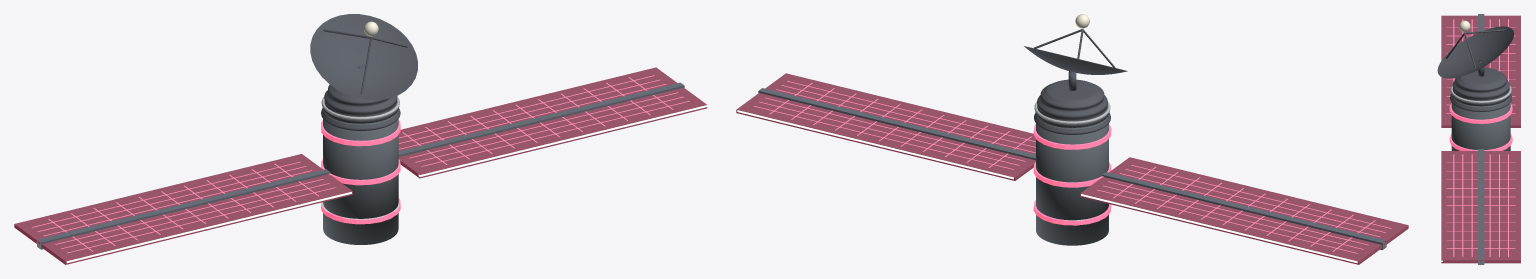
The model's file is satellite_red_off.fbx.
The picture shows the model from 3 angles, left to right: view 1: azimuth 30°, elevation 25°; view 2: azimuth 150°, elevation 25°; view 3: azimuth 270°, elevation 25°; orthographic projection. The views are drawn at different scales.
Visible parts, largest first — view 1: sat_pf_R, sat_pf_L, sat_body, sat_dish, sat_top_bellows, sat_boom_R, sat_boom_L, sat_pled_L_-0.56, sat_pled_R_-0.56, sat_ring_2, sat_ring_0.001, sat_ring_1; view 2: sat_pf_R, sat_pf_L, sat_body, sat_top_bellows, sat_boom_R, sat_boom_L, sat_dish, sat_pled_L_0.56, sat_pled_R_0.56, sat_ring_2, sat_ring_0.001, sat_ring_1; view 3: sat_pf_L, sat_pf_R, sat_body, sat_dish, sat_top_bellows, sat_boom_L, sat_ring_2, sat_dish_struts, sat_ring_1, sat_top_rim, sat_pled_L_-0.56, sat_gh_L_2 (+12 smaller).
Boxes of the visible parts, left/top/right/bottom form: sat_pf_R: left=14, top=154, right=352, bottom=264; sat_pf_L: left=398, top=67, right=707, bottom=178; sat_body: left=323, top=109, right=398, bottom=244; sat_dish: left=310, top=14, right=417, bottom=100; sat_top_bellows: left=321, top=84, right=400, bottom=130; sat_boom_R: left=37, top=169, right=330, bottom=249; sat_boom_L: left=398, top=82, right=684, bottom=156; sat_pled_L_-0.56: left=418, top=105, right=707, bottom=176; sat_pled_R_-0.56: left=66, top=192, right=351, bottom=262; sat_ring_2: left=321, top=120, right=400, bottom=146; sat_ring_0.001: left=321, top=198, right=400, bottom=224; sat_ring_1: left=321, top=159, right=400, bottom=185; sat_pf_R: left=1080, top=157, right=1408, bottom=264; sat_pf_L: left=736, top=73, right=1035, bottom=180; sat_body: left=1036, top=114, right=1108, bottom=245; sat_top_bellows: left=1034, top=79, right=1110, bottom=134; sat_boom_R: left=1102, top=172, right=1386, bottom=249; sat_boom_L: left=758, top=88, right=1035, bottom=160; sat_dish: left=1024, top=46, right=1127, bottom=74; sat_pled_L_0.56: left=737, top=110, right=1013, bottom=179; sat_pled_R_0.56: left=1081, top=194, right=1357, bottom=263; sat_ring_2: left=1033, top=124, right=1111, bottom=149; sat_ring_0.001: left=1033, top=200, right=1111, bottom=225; sat_ring_1: left=1033, top=162, right=1111, bottom=187; sat_pf_L: left=1441, top=151, right=1520, bottom=263; sat_pf_R: left=1441, top=15, right=1520, bottom=127; sat_body: left=1451, top=95, right=1510, bottom=150; sat_dish: left=1437, top=26, right=1513, bottom=78; sat_top_bellows: left=1450, top=67, right=1511, bottom=111; sat_boom_L: left=1478, top=149, right=1484, bottom=264; sat_ring_2: left=1449, top=103, right=1512, bottom=123; sat_dish_struts: left=1445, top=29, right=1505, bottom=68; sat_ring_1: left=1449, top=133, right=1512, bottom=150; sat_top_rim: left=1450, top=85, right=1511, bottom=103; sat_pled_L_-0.56: left=1440, top=151, right=1442, bottom=261; sat_gh_L_2: left=1462, top=154, right=1463, bottom=256.
Size of the model in its own units: 8.28 by 2.64 by 1.2.
